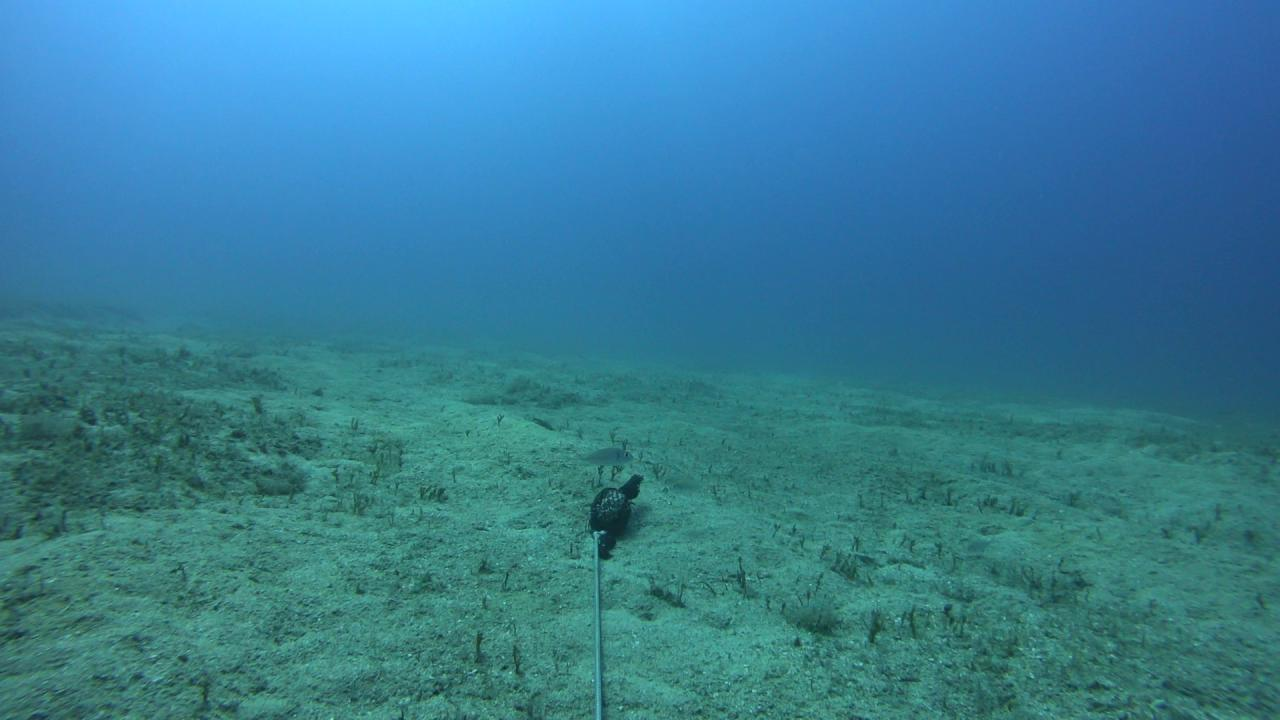pagellus: (571, 446, 635, 467), (663, 472, 710, 499)
